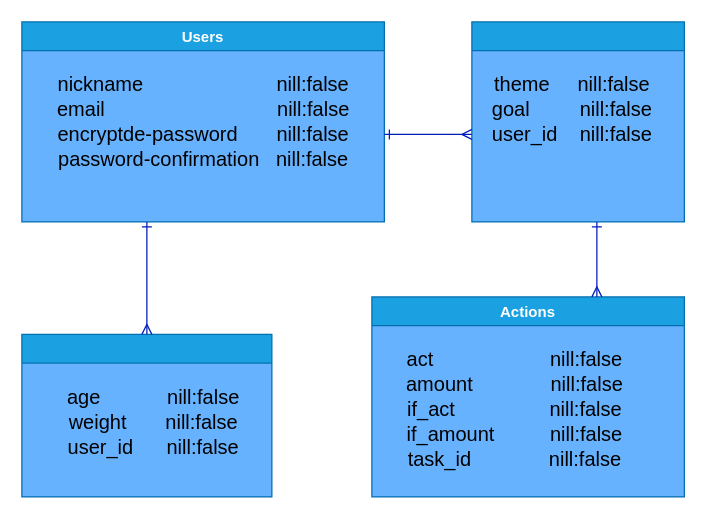
This 706x519 diagram has some shape labels left out. The shapes that lost their labels are listed below. From the top down, each one's box as (x1, y1, x2, y2) in pixels, then its label:
(471, 21, 684, 222): Tasks
(21, 333, 272, 497): Profiles
